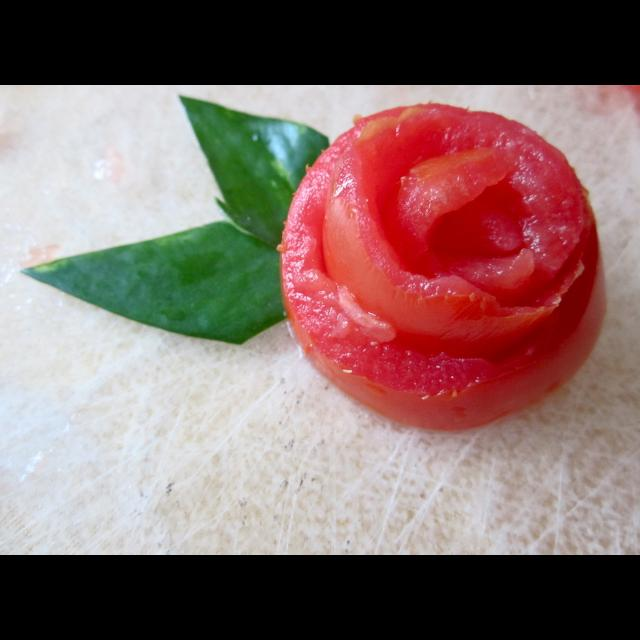Flower: (278, 104, 608, 430)
